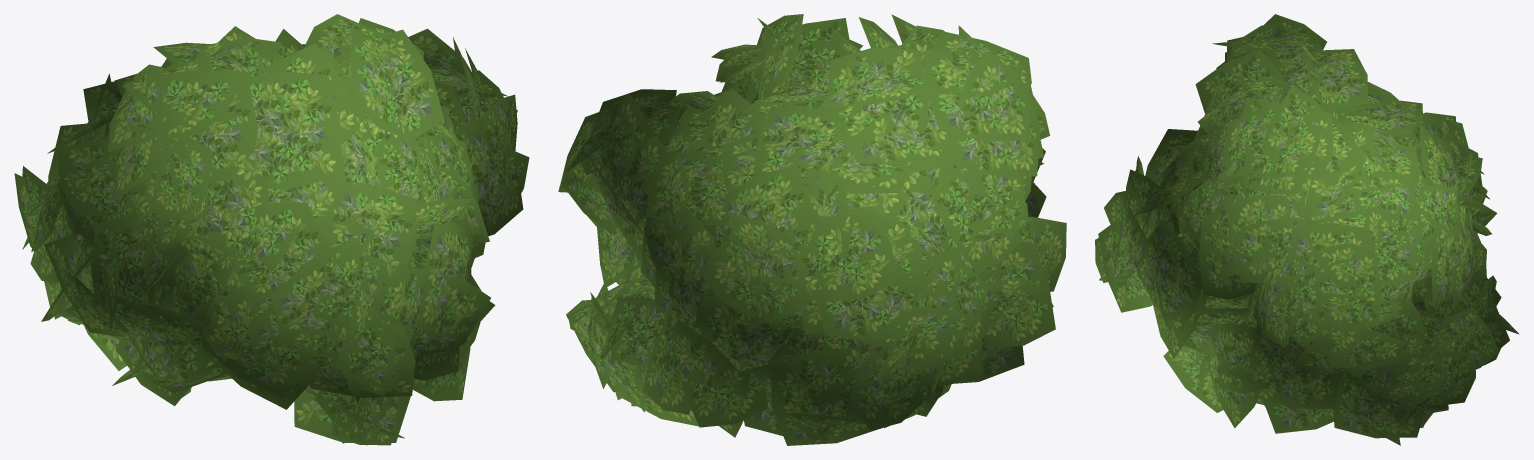
Rendered from ElmTreeLeaves_02.fbx.
3 renders of one model, left to right at view 1: azimuth 30°, elevation 25°; view 2: azimuth 150°, elevation 25°; view 3: azimuth 270°, elevation 25°, orthographic. The views are drawn at different scales.
Visible parts, largest first — view 1: pPlane4991; view 2: pPlane4991; view 3: pPlane4991.
Part boxes in pixels (x1,y1,x2,y2): pPlane4991: (14,14,529,445); pPlane4991: (558,14,1066,445); pPlane4991: (1095,14,1519,445).
Size of the model in its own units: 651 by 513 by 613.
1 material, 1 textured.
